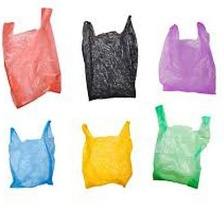plastic_bag: (0, 4, 67, 112), (75, 9, 144, 106), (146, 103, 215, 194), (150, 18, 224, 100), (70, 114, 136, 194), (2, 114, 62, 189)
